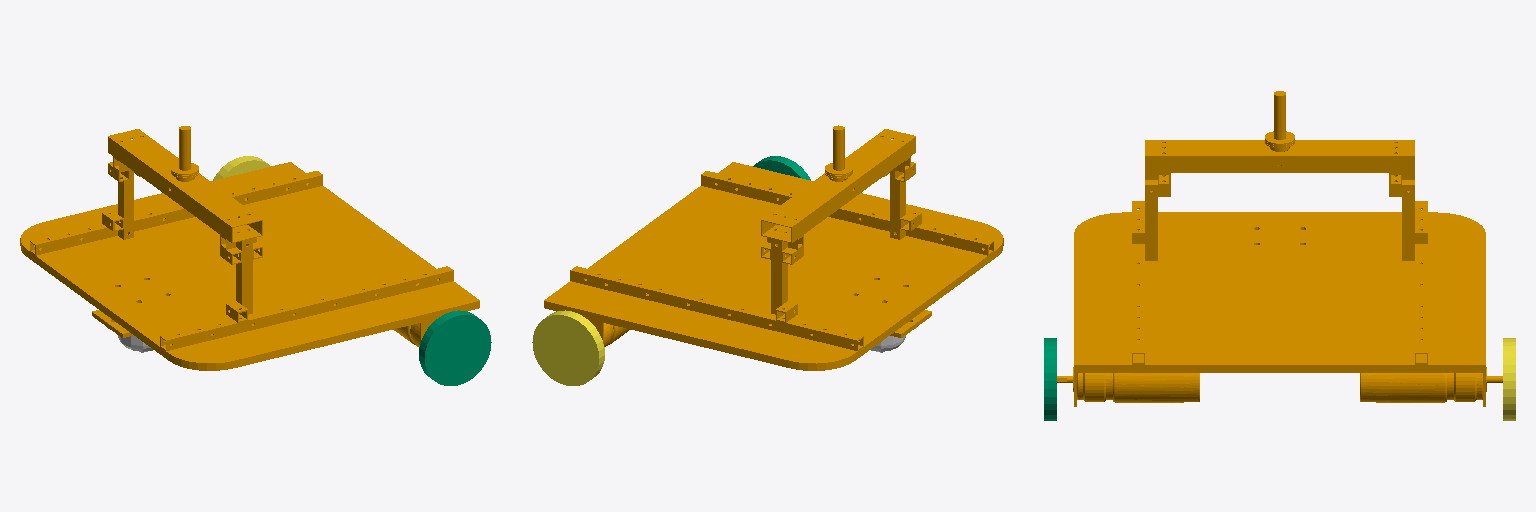
robot.urdf — icart:
<?xml version="1.0"?>
<robot name="icart">
  <!--visual&collision define-->
  <!--icart_body-->
  <link name="base_link">
    <visual>
      <geometry>
        <mesh filename="package://icart_description/mesh/DAE/i-Cart_body.dae"/>
      </geometry>
    </visual>

    <collision>
      <geometry>
        <mesh filename="package://icart_description/mesh/DAE/i-Cart_body.dae"/>
      </geometry>
    </collision>

    <inertial>
      <origin xyz="0 0 0"/>
      <mass value="0.500"/>
      <inertia ixx="0.0020833333" ixy="0" ixz="0" iyy="0.0070833333" iyz="0" izz="0.0083333333"/>
    </inertial>
  </link>

  <!--icart_caster-->
  <link name="caster_link">
    <visual>
      <geometry>
        <mesh filename="package://icart_description/mesh/DAE/i-Cart_caster.dae"/>
      </geometry>
    </visual>

    <collision>
      <geometry>
        <mesh filename="package://icart_description/mesh/DAE/i-Cart_caster.dae"/>
      </geometry>
    </collision>

    <inertial>
      <origin xyz="0 0 0"/>
      <mass value="0.500"/>
      <inertia ixx="0.00025" ixy="0" ixz="0" iyy="0.00025"  iyz="0" izz="0.00025"/>
     </inertial>

  </link>

  <!--icart_right_wheel-->
  <link name="right_wheel_link">
    <visual>
      <geometry>
        <!--<mesh filename="package://icart_description/mesh/DAE/i-Cart_right_wheel.dae"/>-->
        <cylinder radius="0.0325" length="0.01"/>
      </geometry>
      <origin xyz="0 0 0" rpy="0 0 0"/>
      <material name="black"/>
    </visual>

    <collision>
      <geometry>
        <!--<mesh filename="package://icart_description/mesh/DAE/i-Cart_right_wheel.dae"/>-->
        <cylinder radius="0.0325" length="0.01"/>
      </geometry>
    </collision>

    <inertial>
      <origin xyz="0 0 0"/>
      <mass value="0.500"/>
      <inertia ixx="0.0013541667" ixy="0" ixz="0" iyy="0.0013541667" iyz="0" izz="0.0025"/>
   </inertial>
  </link>

  <!--icart_left_wheel-->
  <link name="left_wheel_link">
    <visual>
      <geometry>
        <!--<mesh filename="package://icart_description/mesh/DAE/i-Cart_left_wheel.dae"/>-->
        <cylinder radius="0.0325" length="0.01"/>
      </geometry>
      <origin xyz="0 0 0" rpy="0 0 0"/>
      <material name="black"/>
    </visual>

    <collision>
      <geometry>
        <!--<mesh filename="package://icart_description/mesh/DAE/i-Cart_left_wheel.dae"/>-->
        <cylinder radius="0.0325" length="0.01"/>
      </geometry>
    </collision>

    <inertial>
      <origin xyz="0 0 0"/>
      <mass value="0.500"/>
      <inertia ixx="0.0013541667" ixy="0" ixz="0" iyy="0.0013541667" iyz="0" izz="0.0025"/>
   </inertial>
  </link>

  <!-- Hokuyo Laser -->
  <link name="hokuyo_link">
    <!--
    <collision>
      <origin xyz="0 0 0" rpy="0 0 0"/>
      <geometry>
        <box size="0.1 0.1 0.1"/>
      </geometry>
    </collision>
  -->

    <visual>
      <origin xyz="0 0 0" rpy="0 0 0"/>
      <geometry>
        <mesh filename="package://rrbot_description/meshes/hokuyo.dae"/>
      </geometry>
    </visual>

    <inertial>
      <mass value="1e-5" />
      <origin xyz="0 0 0" rpy="0 0 0"/>
      <inertia ixx="1e-6" ixy="0" ixz="0" iyy="1e-6" iyz="0" izz="1e-6" />
    </inertial>
  </link>


  <!--joint define-->
  <!--base_link to caster-->
  <joint name="caster_joint" type="fixed">
    <parent link="base_link"/>
    <child link="caster_link"/>
    <origin xyz="-0.096 0 -0.019" rpy="0 0 0"/>
  </joint>

  <!--base_link to left_wheel-->
  <joint name="left_wheel_joint" type="continuous">
    <parent link="base_link"/>
    <child link="left_wheel_link"/>
    <origin xyz="0.105 0.178 -0.022" rpy="-1.5707 0 0"/>
    <axis xyz="0 0 1"/>
  </joint>

  <!--base_link to right_wheel-->
  <joint name="right_wheel_joint" type="continuous">
    <parent link="base_link"/>
    <child link="right_wheel_link"/>
    <origin xyz="0.105 -0.178 -0.022" rpy="1.5707 0 0"/>
    <axis xyz="0 0 -1"/>
  </joint>

  <!--base_link to hokuyo-->
  <joint name="hokuyo_joint" type="fixed">
    <axis xyz="0 1 0" />
    <origin xyz="0.105 0 0.035" rpy="0 0 0"/>
    <parent link="base_link"/>
    <child link="hokuyo_link"/>
  </joint>

  <!--define base_foot-->
  <link name="base_foot_print"/>
    <joint name="base_link_joint" type="fixed">
    <parent link="base_foot_print"/>
    <child link="base_link"/>
    <origin xyz="-0.105 0 0.0545"/>
  </joint>

  <!-- ===============  Transmission =============== -->

  <transmission name="left_wheel_trans">
      <type>transmission_interface/SimpleTransmission</type>
      <joint name="left_wheel_joint">
  <hardwareInterface>VelocityJointInterface</hardwareInterface>
      </joint>
   <actuator name="left_wheel_motor">
  <hardwareInterface>VelocityJointInterface</hardwareInterface>
  <mechanicalReduction>30</mechanicalReduction>
      </actuator>
 </transmission>

  <transmission name="right_wheel_trans">
       <type>transmission_interface/SimpleTransmission</type>
       <joint name="right_wheel_joint">
   <hardwareInterface>VelocityJointInterface</hardwareInterface>
       </joint>
    <actuator name="right_wheel_motor">
   <hardwareInterface>VelocityJointInterface</hardwareInterface>
   <mechanicalReduction>30</mechanicalReduction>
       </actuator>
  </transmission>



 <!-- =============== Gazebo =============== -->
  <gazebo>
    <plugin name="gazebo_ros_control" filename="libgazebo_ros_control.so">
      <robotNamespace>icart</robotNamespace>
    </plugin>
  </gazebo>

 <gazebo reference="base_link">
   <selfCollide>true</selfCollide>
    <mu1 value="0.05" />
    <mu2 value="0.05" />
  </gazebo>

 <gazebo reference="left_wheel_link">
   <selfCollide>true</selfCollide>
    <mu1 value="1.0" />
    <mu2 value="1.0" />
  </gazebo>

 <gazebo reference="right_wheel_link">
   <selfCollide>true</selfCollide>
    <mu1 value="1.0" />
    <mu2 value="1.0" />
  </gazebo>

 <gazebo reference="caster_link">
   <selfCollide>true</selfCollide>
     <!-- This caster is no frictional resistance. -->
    <mu1 value="0.0" />
    <mu2 value="0.0" />
  </gazebo>

  <!-- hokuyo -->
  <gazebo reference="hokuyo_link">
    <sensor type="ray" name="head_hokuyo_sensor">
      <pose>0 0 0 0 0 0</pose>
      <visualize>false</visualize>
      <update_rate>40</update_rate>
      <ray>
        <scan>
          <horizontal>
            <samples>720</samples>
            <resolution>1</resolution>
            <min_angle>-2.0944</min_angle>
            <max_angle>2.0944</max_angle>
          </horizontal>
        </scan>
        <range>
          <min>0.02</min>
          <max>5.6</max>
          <resolution>0.36</resolution>
        </range>
        <noise>
          <type>gaussian</type>
          <!-- Noise parameters based on published spec for Hokuyo laser
               achieving "+-30mm" accuracy at range < 10m.  A mean of 0.0m and
               stddev of 0.01m will put 99.7% of samples within 0.03m of the true
               reading. -->
          <mean>0.0</mean>
          <stddev>0.01</stddev>
        </noise>
      </ray>
      <plugin name="gazebo_ros_head_hokuyo_controller" filename="libgazebo_ros_laser.so">
        <topicName>/icart/laser/scan</topicName>
        <frameName>hokuyo_link</frameName>
      </plugin>
    </sensor>
  </gazebo>
</robot>

--- Facts derived from the render (not from the file) ---
Views: 3 orthographic renders of the robot side by side, from view 1: azimuth 30°, elevation 25°; view 2: azimuth 150°, elevation 25°; view 3: azimuth 270°, elevation 25°.
Robot: icart — 6 links, 5 joints (2 continuous, 3 fixed); root link base_foot_print; default pose: every joint at zero.
Visible links, largest first — view 1: base_link, right_wheel_link, left_wheel_link; view 2: base_link, left_wheel_link, right_wheel_link; view 3: base_link, right_wheel_link, left_wheel_link.
Boxes of the visible links, bbox=[...] form: base_link: bbox=[20, 126, 479, 370]; right_wheel_link: bbox=[419, 310, 491, 385]; left_wheel_link: bbox=[213, 156, 270, 180]; base_link: bbox=[544, 125, 1003, 370]; left_wheel_link: bbox=[532, 310, 604, 385]; right_wheel_link: bbox=[753, 156, 810, 180]; base_link: bbox=[1057, 91, 1502, 406]; right_wheel_link: bbox=[1044, 338, 1056, 420]; left_wheel_link: bbox=[1503, 338, 1515, 420].
Size in the robot's own frame: 0.28 by 0.366 by 0.203 metres.
Meshes: 3 distinct files referenced, 2 mesh visuals loaded (2 Collada DAE); not drawn: 1 (reference not matched to a file when rendering).
